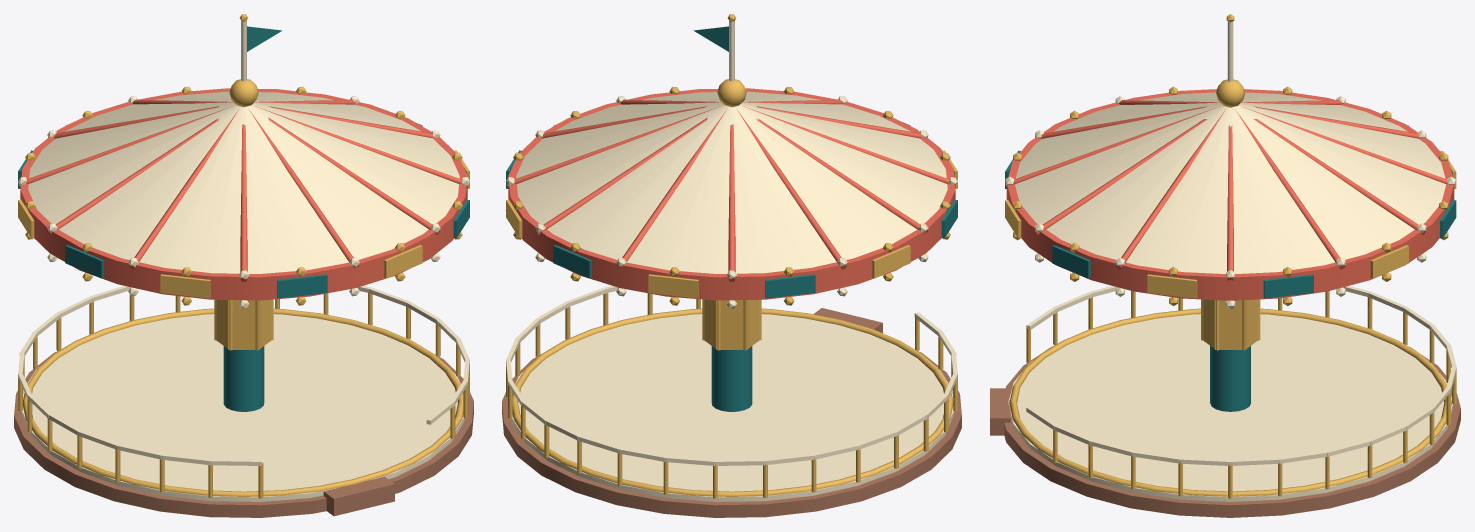
The model's file is ride_carousel.glb.
The picture shows the model from 3 angles, left to right: view 1: azimuth 30°, elevation 25°; view 2: azimuth 150°, elevation 25°; view 3: azimuth 270°, elevation 25°; orthographic projection.
Visible parts, largest first — view 1: ride_carousel; view 2: ride_carousel; view 3: ride_carousel.
Part boxes in pixels (x1,y1,x2,y2): ride_carousel: [14, 14, 473, 517]; ride_carousel: [502, 14, 961, 517]; ride_carousel: [990, 14, 1460, 517].
Bounding box in the file's own units: 7.2 × 7 × 7.36.
